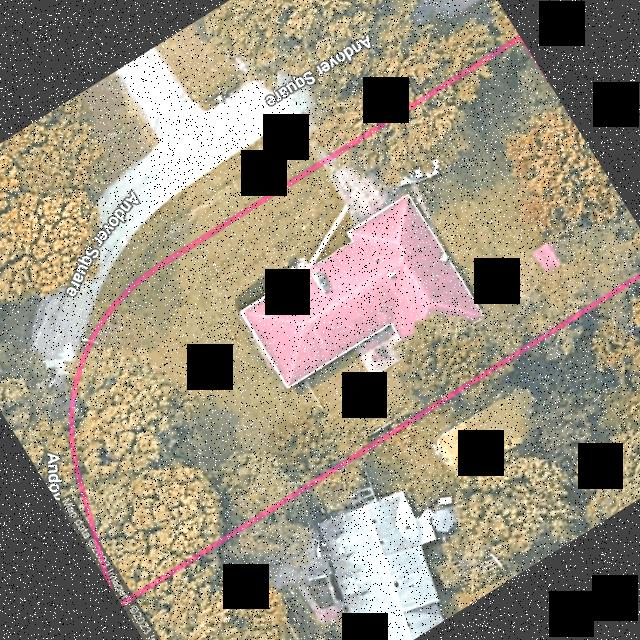Driveway: (325, 122, 430, 223)
Extra Driveway: (294, 71, 391, 159)
Extra Lawn: (72, 116, 317, 375), (366, 0, 518, 113)
House: (239, 195, 483, 387)
Other: (355, 328, 408, 377), (532, 242, 559, 272)
Sidewalk: (308, 204, 348, 265)
